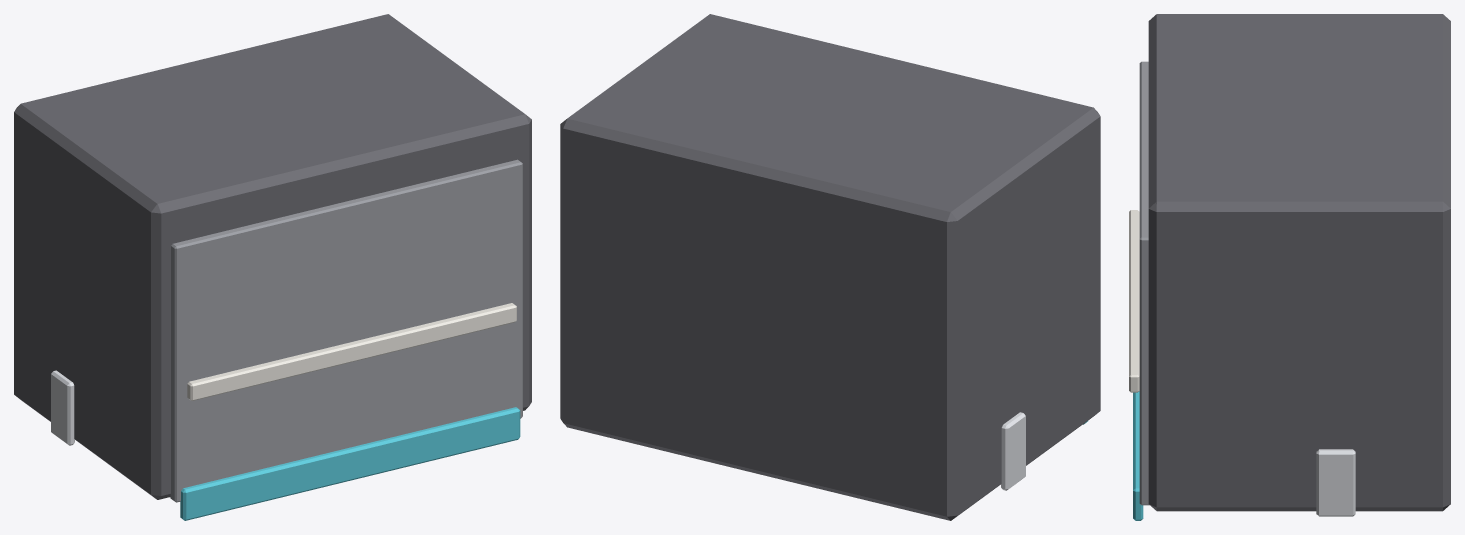
The model's file is nightclub-and-dj-booth-speaker-mid-cabinet-2e417753.glb.
The picture shows the model from 3 angles, left to right: view 1: azimuth 30°, elevation 25°; view 2: azimuth 150°, elevation 25°; view 3: azimuth 270°, elevation 25°; orthographic projection. The views are drawn at different scales.
Parts seen in each view (by area): view 1: speaker-mid-cabinet; view 2: speaker-mid-cabinet; view 3: speaker-mid-cabinet.
Boxes of the visible parts, x1=… form: speaker-mid-cabinet: x1=14, y1=14, x2=531, y2=520; speaker-mid-cabinet: x1=560, y1=14, x2=1100, y2=520; speaker-mid-cabinet: x1=1129, y1=14, x2=1450, y2=520.
Size of the model in its own units: 0.722 by 0.5512 by 0.49.
